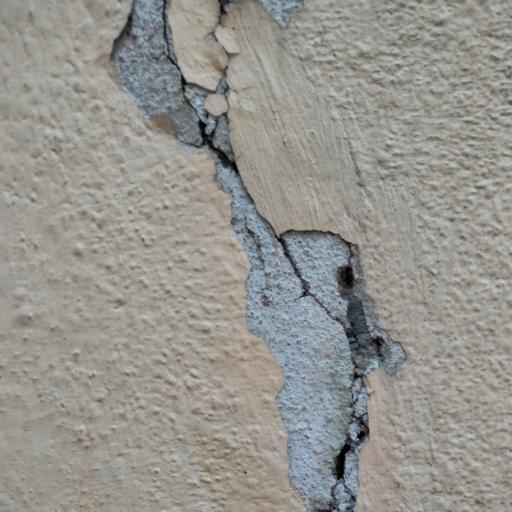peeling: (90, 0, 421, 512)
